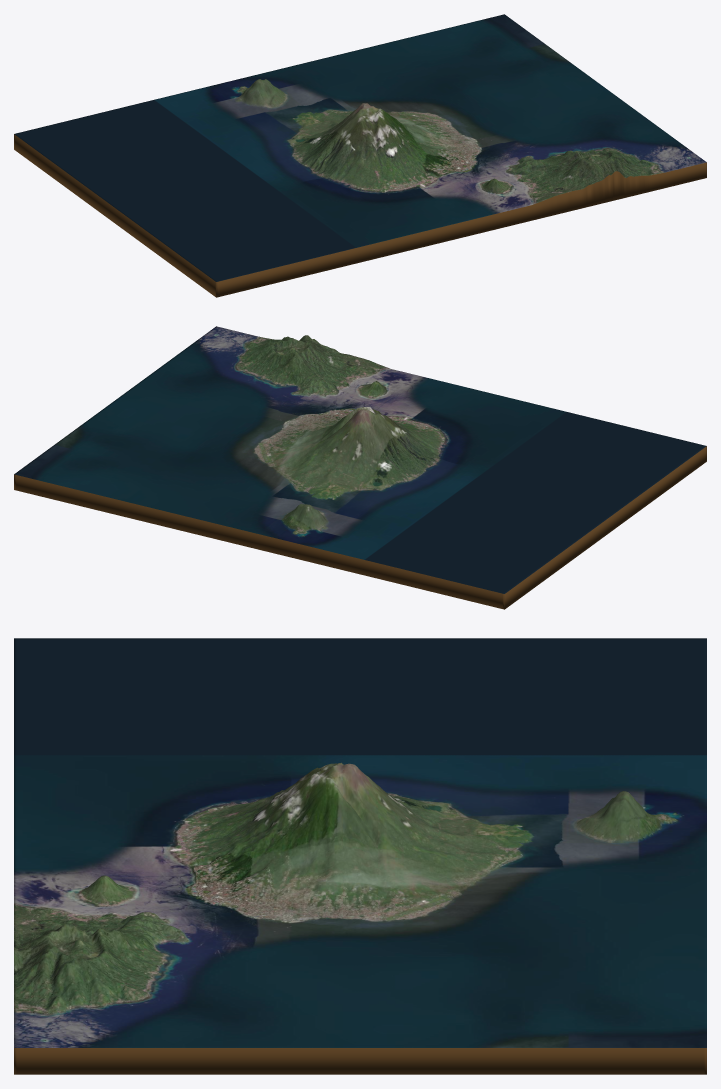
Rendered from gamalama2.glb.
3 renders of one model, top to bottom at view 1: azimuth 30°, elevation 25°; view 2: azimuth 150°, elevation 25°; view 3: azimuth 270°, elevation 25°, orthographic. The views are drawn at different scales.
Visible parts, largest first — view 1: EXPORT_ESRI_AERIAL_WM; view 2: EXPORT_ESRI_AERIAL_WM; view 3: EXPORT_ESRI_AERIAL_WM.
Boxes of the visible parts, left/top/right/bottom form: EXPORT_ESRI_AERIAL_WM: left=14, top=14, right=706, bottom=297; EXPORT_ESRI_AERIAL_WM: left=14, top=326, right=706, bottom=609; EXPORT_ESRI_AERIAL_WM: left=14, top=638, right=706, bottom=1074.
Size of the model in its own units: 34245 by 4183 by 24463.
2 materials, 1 textured.
